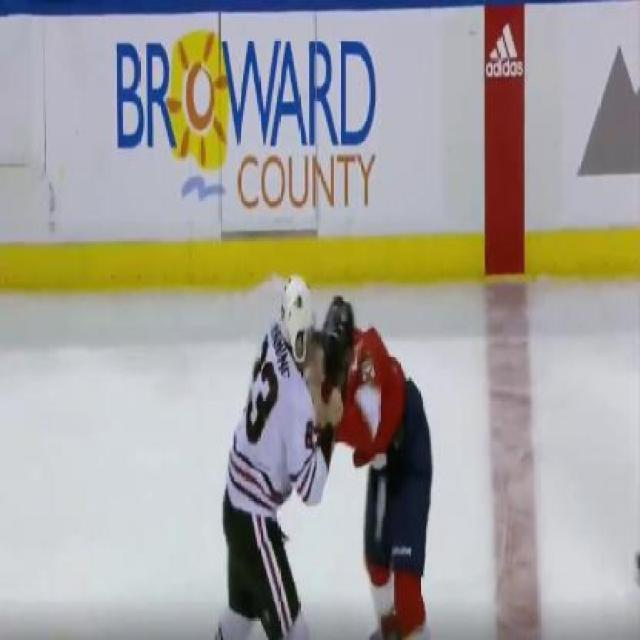fight: (222, 273, 435, 639)
